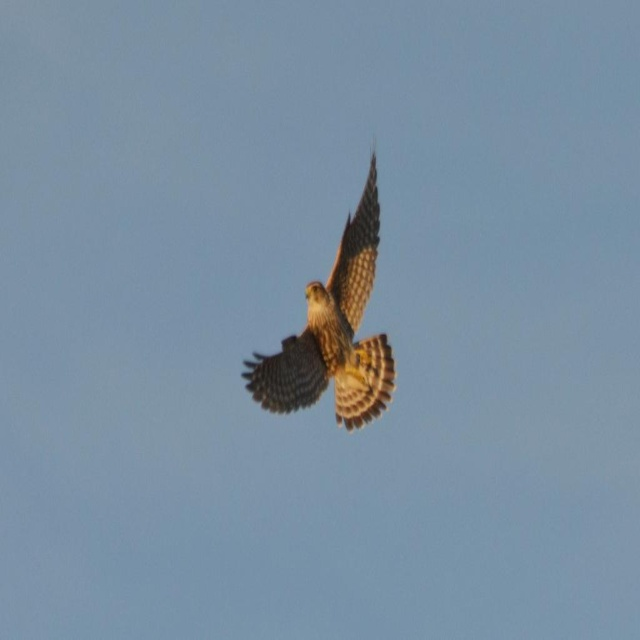Eagle: (239, 145, 398, 439)
